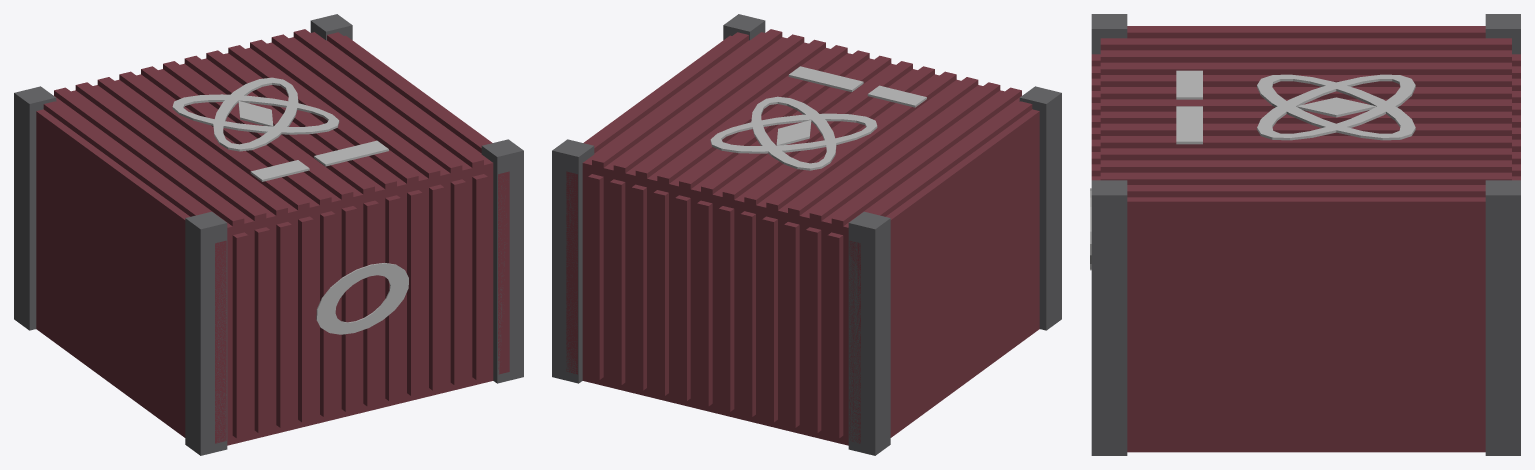
Rendered from vge_trading_container_b.obj.
3 renders of one model, left to right at view 1: azimuth 30°, elevation 25°; view 2: azimuth 150°, elevation 25°; view 3: azimuth 270°, elevation 25°, orthographic. The views are drawn at different scales.
Visible parts, largest first — view 1: vge_trading_container_b_0, vge_trading_container_b_43, vge_trading_container_b_44, vge_trading_container_b_45, vge_trading_container_b_5, vge_trading_container_b_14, vge_trading_container_b_32, vge_trading_container_b_38, vge_trading_container_b_8, vge_trading_container_b_11, vge_trading_container_b_35, vge_trading_container_b_29 (+24 smaller); view 2: vge_trading_container_b_0, vge_trading_container_b_44, vge_trading_container_b_46, vge_trading_container_b_43, vge_trading_container_b_21, vge_trading_container_b_6, vge_trading_container_b_15, vge_trading_container_b_27, vge_trading_container_b_33, vge_trading_container_b_39, vge_trading_container_b_9, vge_trading_container_b_30 (+24 smaller); view 3: vge_trading_container_b_0, vge_trading_container_b_45, vge_trading_container_b_46, vge_trading_container_b_7, vge_trading_container_b_34, vge_trading_container_b_4, vge_trading_container_b_31, vge_trading_container_b_10, vge_trading_container_b_37, vge_trading_container_b_28, vge_trading_container_b_1, vge_trading_container_b_40 (+10 smaller).
Boxes of the visible parts, x1,y1,x2,y2 form: vge_trading_container_b_0: (36, 32, 493, 445); vge_trading_container_b_43: (185, 211, 227, 455); vge_trading_container_b_44: (14, 86, 56, 330); vge_trading_container_b_45: (481, 139, 523, 383); vge_trading_container_b_5: (232, 232, 248, 438); vge_trading_container_b_14: (298, 216, 313, 422); vge_trading_container_b_32: (429, 184, 444, 390); vge_trading_container_b_38: (472, 174, 487, 379); vge_trading_container_b_8: (254, 227, 269, 432); vge_trading_container_b_11: (276, 222, 291, 427); vge_trading_container_b_35: (450, 179, 465, 385); vge_trading_container_b_29: (407, 190, 422, 395); vge_trading_container_b_0: (582, 32, 1039, 445); vge_trading_container_b_44: (848, 211, 890, 455); vge_trading_container_b_46: (552, 139, 594, 383); vge_trading_container_b_43: (1019, 86, 1061, 330); vge_trading_container_b_21: (718, 206, 734, 411); vge_trading_container_b_6: (827, 232, 843, 438); vge_trading_container_b_15: (762, 216, 777, 422); vge_trading_container_b_27: (675, 195, 690, 401); vge_trading_container_b_33: (631, 184, 646, 390); vge_trading_container_b_39: (588, 174, 603, 379); vge_trading_container_b_9: (806, 227, 821, 432); vge_trading_container_b_30: (653, 190, 668, 395); vge_trading_container_b_0: (1127, 197, 1485, 452); vge_trading_container_b_45: (1091, 180, 1127, 455); vge_trading_container_b_46: (1485, 180, 1520, 455); vge_trading_container_b_7: (1100, 50, 1511, 62); vge_trading_container_b_34: (1100, 160, 1511, 172); vge_trading_container_b_4: (1100, 38, 1511, 50); vge_trading_container_b_31: (1100, 148, 1511, 160); vge_trading_container_b_10: (1100, 62, 1511, 74); vge_trading_container_b_37: (1100, 172, 1511, 184); vge_trading_container_b_28: (1100, 136, 1511, 148); vge_trading_container_b_1: (1127, 26, 1485, 38); vge_trading_container_b_40: (1127, 185, 1485, 197).
Bounding box in the file's own units: 1.94 × 1.3 × 1.95.
